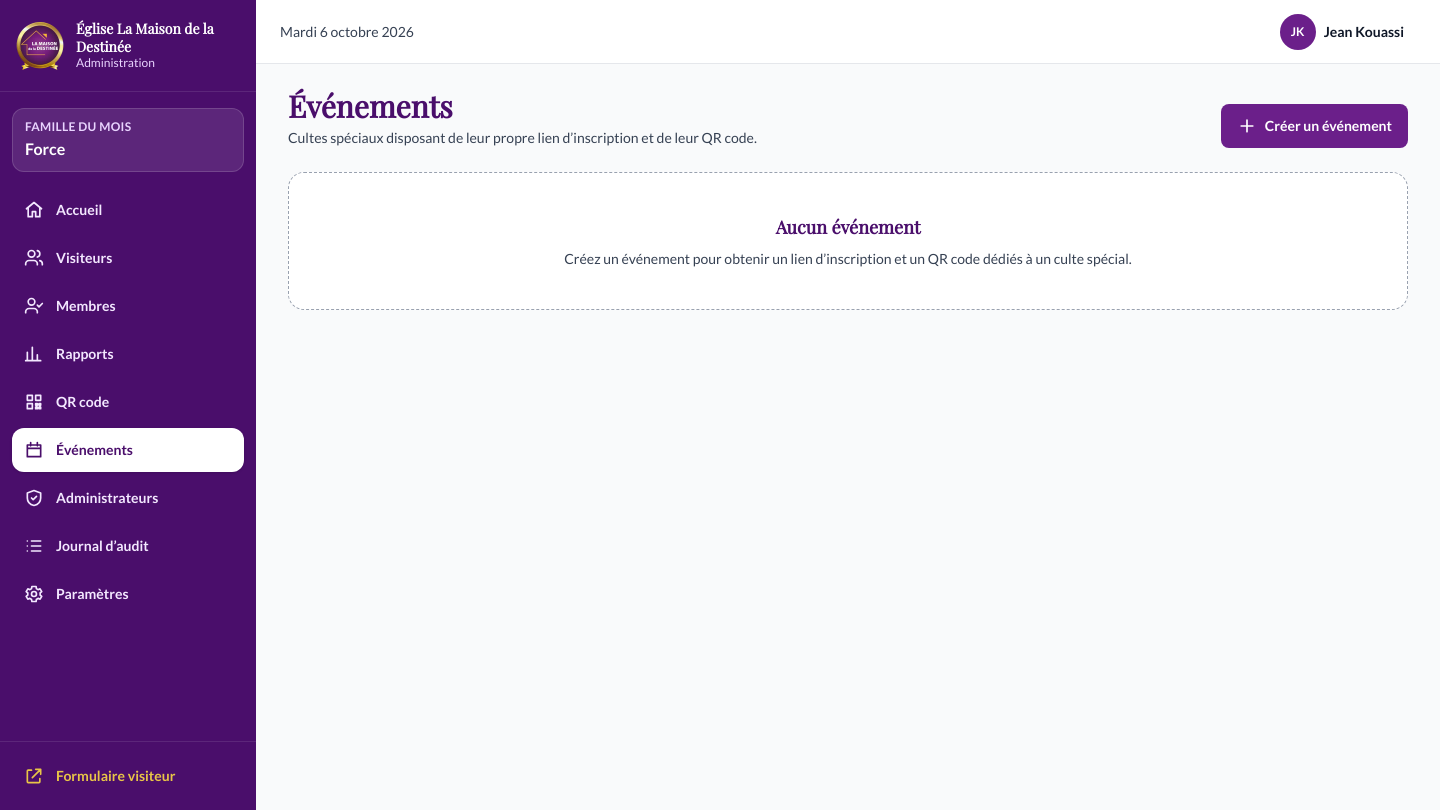
Test case: événements — création › affiche l’erreur 422 du serveur sur le champ « Adresse du lien » quand le lien est déjà pris
Click the button "Créer un événement" at point(1314, 126), box [1221,104,1408,148]
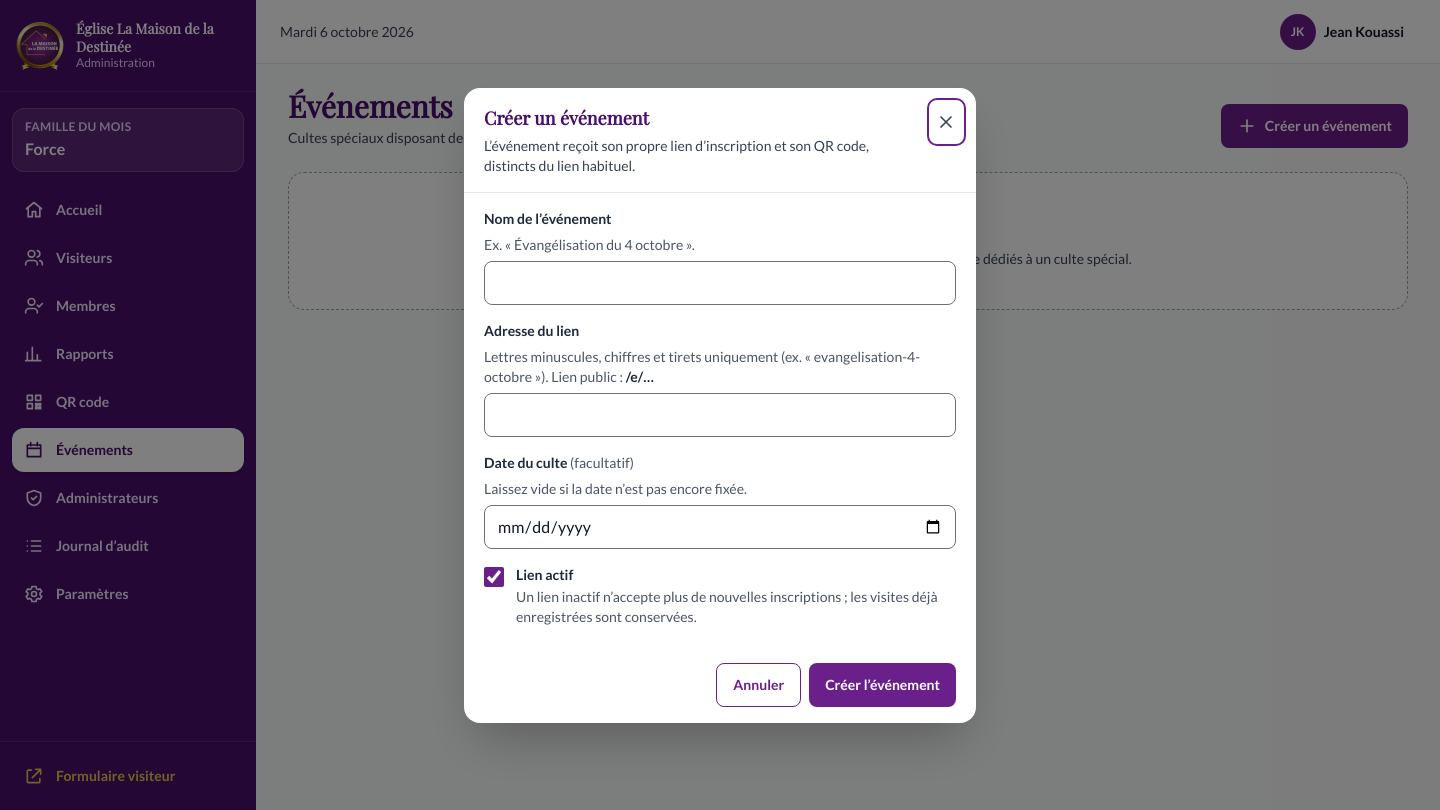
Type "Évangélisation du 4 octobre" into the field labelled "Nom de l’événement" at point(720, 282), box [484,260,956,304]
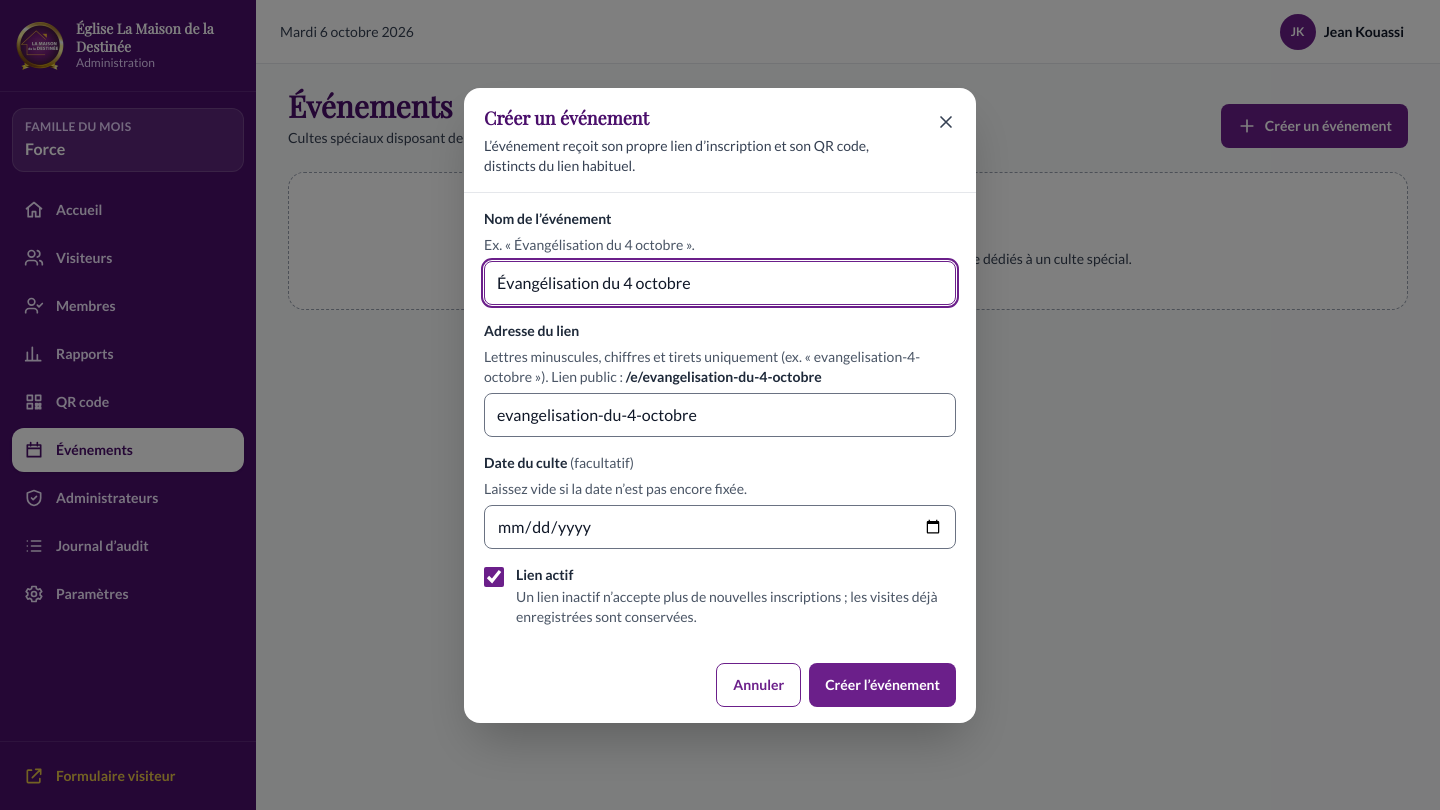
Click the button "Créer l’événement" at point(883, 684), box [809,662,956,706]
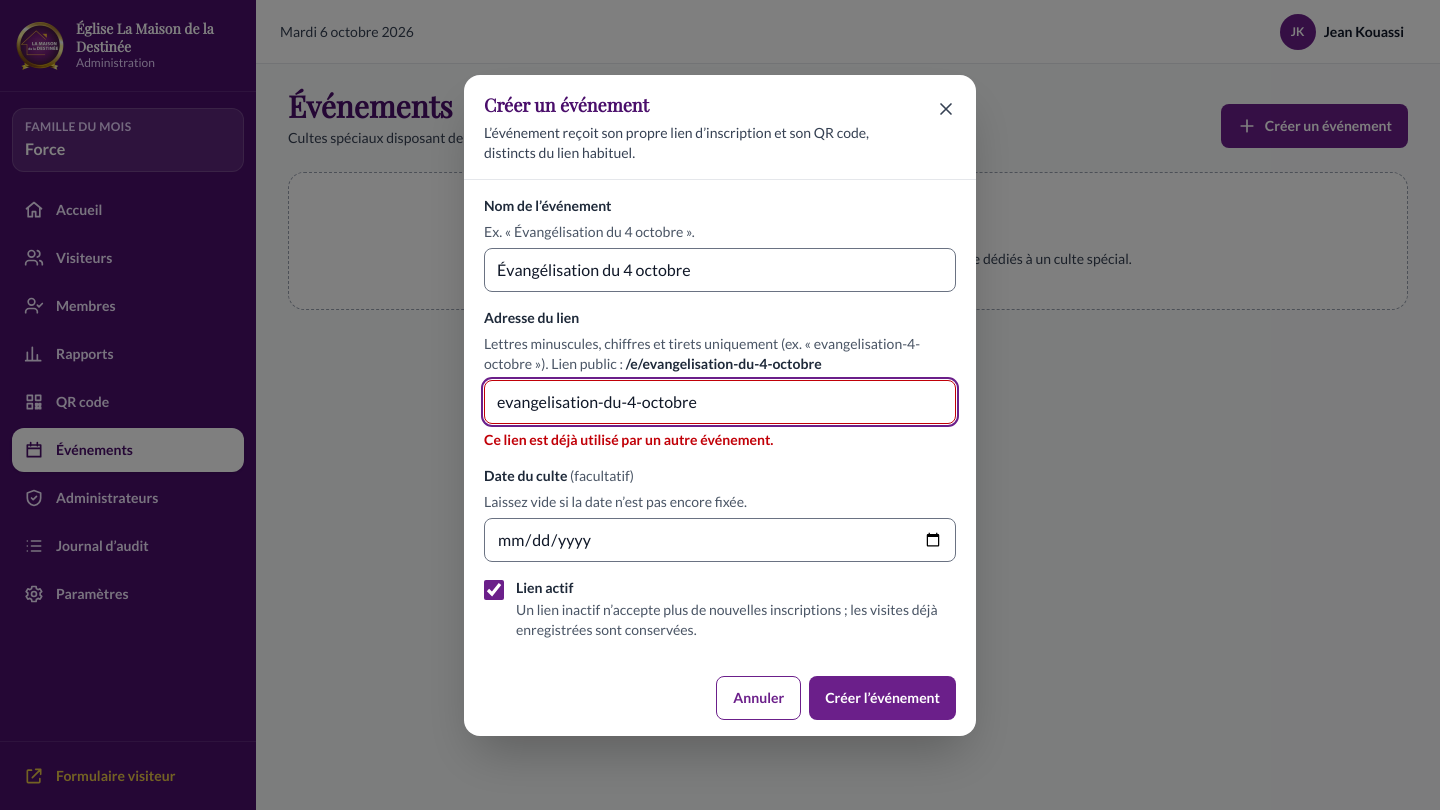
Now the text "Ce lien est déjà utilisé par un autre événement." is shown, box [484,430,774,448]
